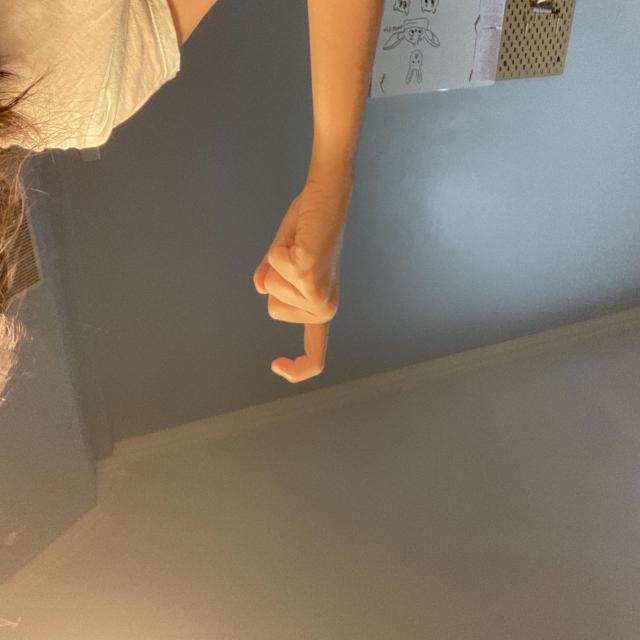X: (289, 257, 387, 459)
